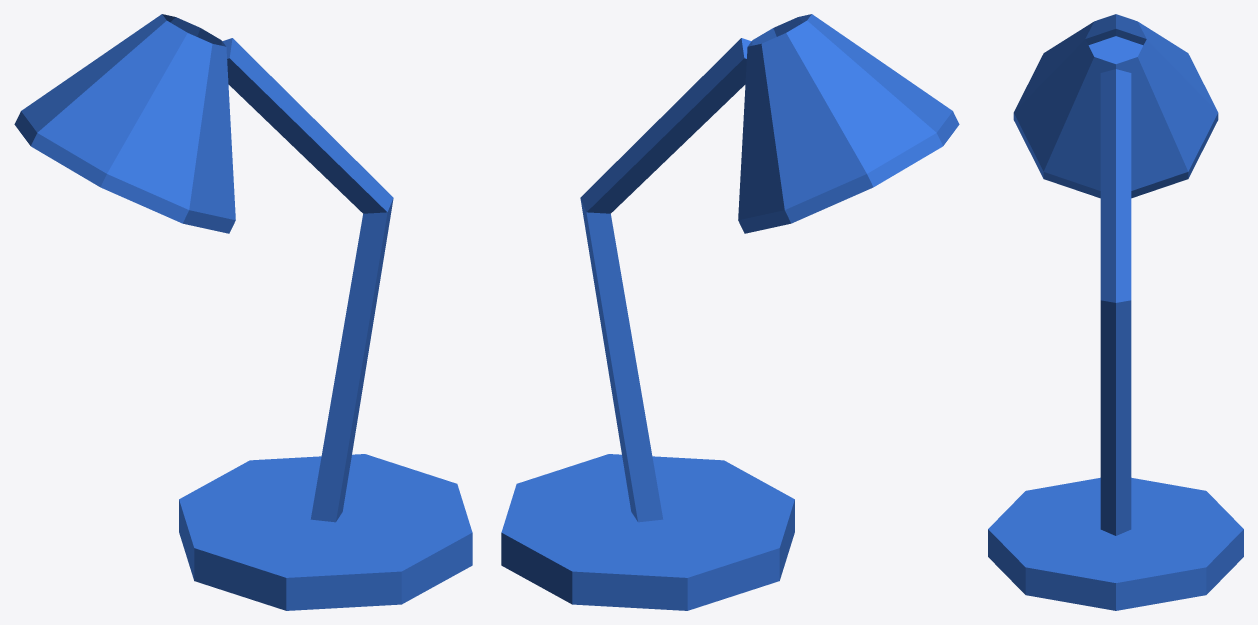
File: DeskLamp.fbx
The picture shows the model from 3 angles, left to right: view 1: azimuth 30°, elevation 25°; view 2: azimuth 150°, elevation 25°; view 3: azimuth 270°, elevation 25°; orthographic projection. The views are drawn at different scales.
Visible parts, largest first — view 1: DeskLamp; view 2: DeskLamp; view 3: DeskLamp.
Boxes of the visible parts, x1=… form: DeskLamp: x1=14, y1=14, x2=472, y2=610; DeskLamp: x1=501, y1=14, x2=959, y2=610; DeskLamp: x1=988, y1=14, x2=1243, y2=610.
Bounding box in the file's own units: 1.62 × 2.06 × 1.
Materials: 1 (1 with a texture image).
